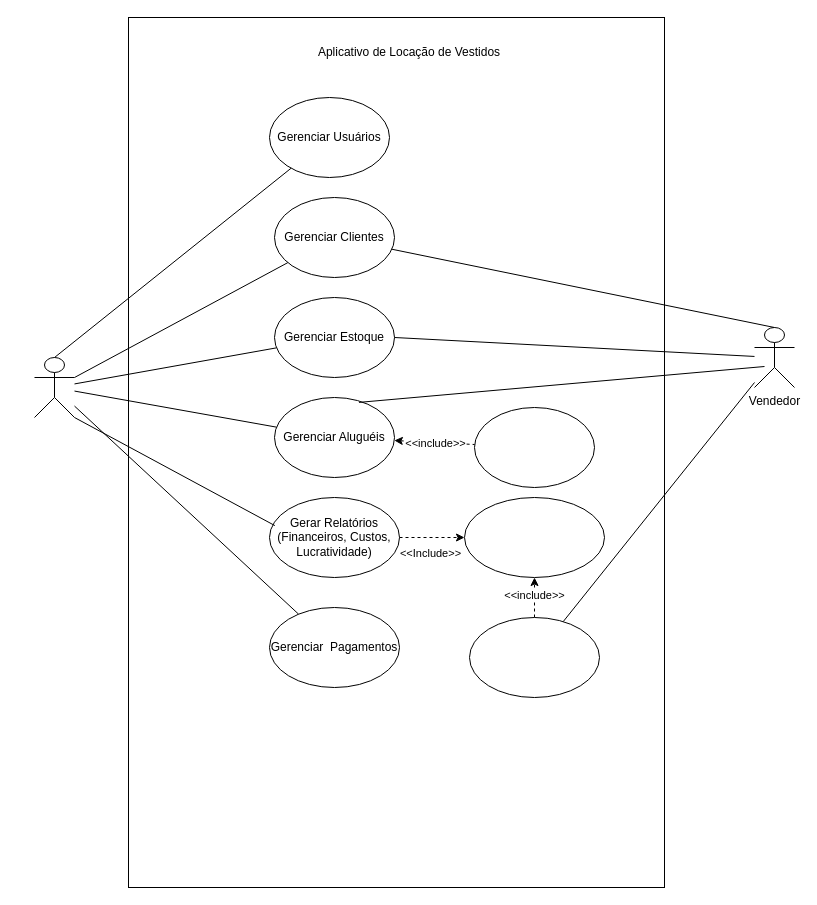
This 817x905 diagram has some shape labels left out. The centre of each missing label's shape, as x and y in pixels:
"Administrador" belongs at [54,387].
"Agendamento e ajuste do item" belongs at [534,447].
"Enviar relatório via E-mail" belongs at [534,537].
"Gerar Relatórios de Vendas" belongs at [534,657].
